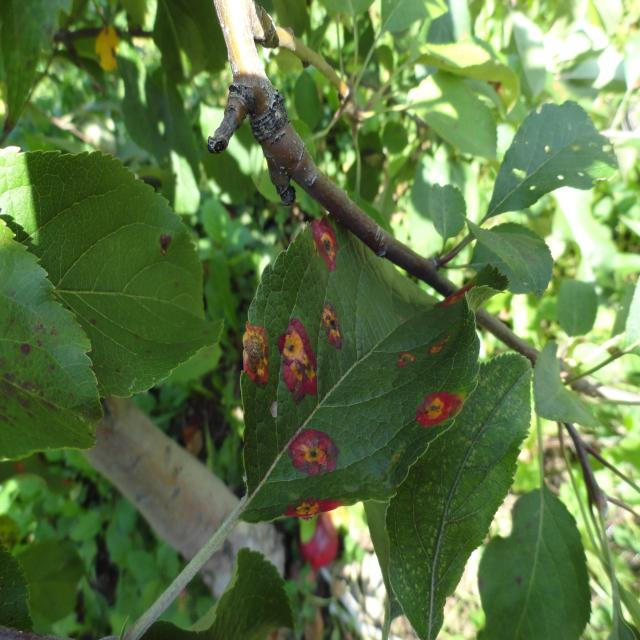Rust: (274, 304, 323, 410), (280, 422, 350, 482), (414, 378, 473, 434), (307, 208, 347, 286), (245, 297, 272, 397), (278, 496, 347, 534)
